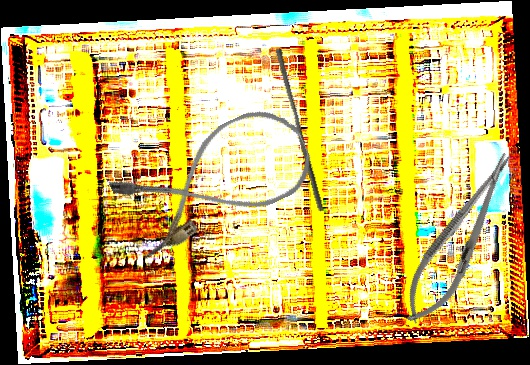Cannula: (106, 96, 322, 263)
Needle Holder: (391, 143, 529, 334)
Pusher: (269, 46, 331, 214)
